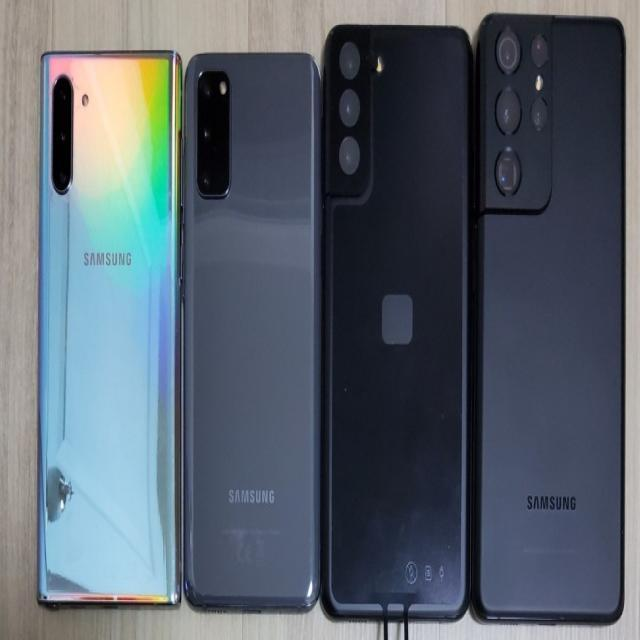phone: (476, 14, 624, 622), (321, 23, 469, 621), (40, 53, 182, 606), (181, 52, 320, 610)
